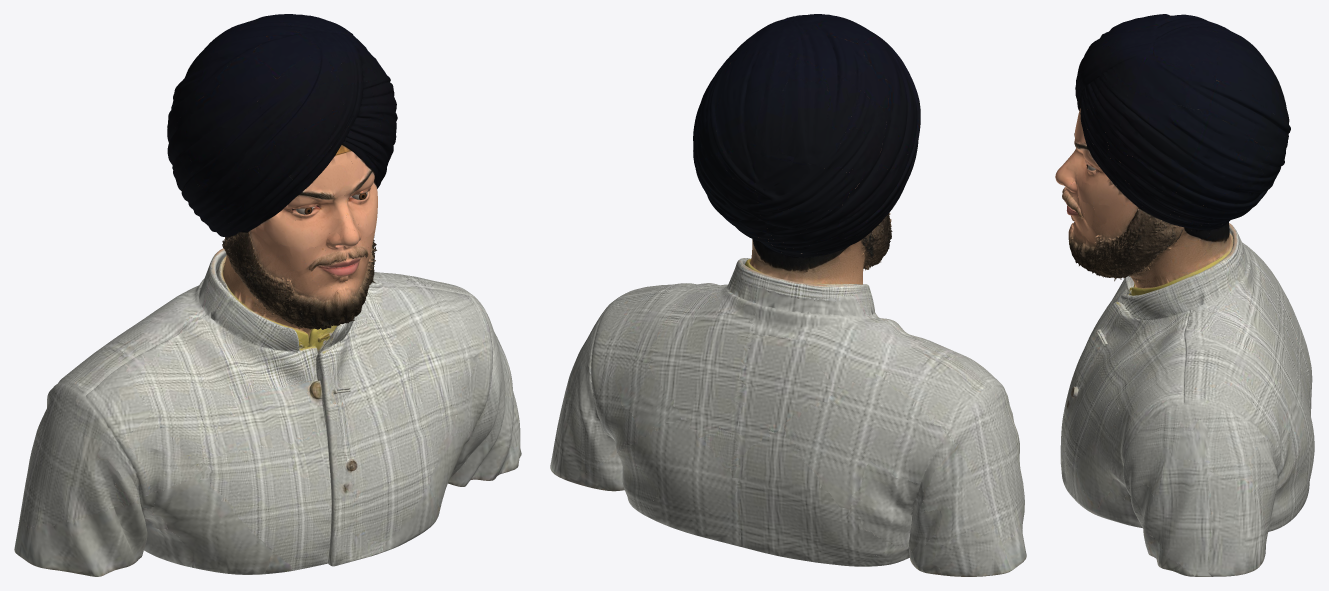
The model's file is meharwan.glb.
3 renders of one model, left to right at view 1: azimuth 30°, elevation 25°; view 2: azimuth 150°, elevation 25°; view 3: azimuth 270°, elevation 25°, orthographic. The views are drawn at different scales.
Parts seen in each view (by area): view 1: Bust; view 2: Bust; view 3: Bust.
Part boxes in pixels (left/top/right/bottom): Bust: left=14, top=14, right=521, bottom=576; Bust: left=550, top=14, right=1026, bottom=576; Bust: left=1055, top=14, right=1314, bottom=576.
Bounding box in the file's own units: 4.38 × 4.23 × 2.23.
3 materials, 2 textured.
